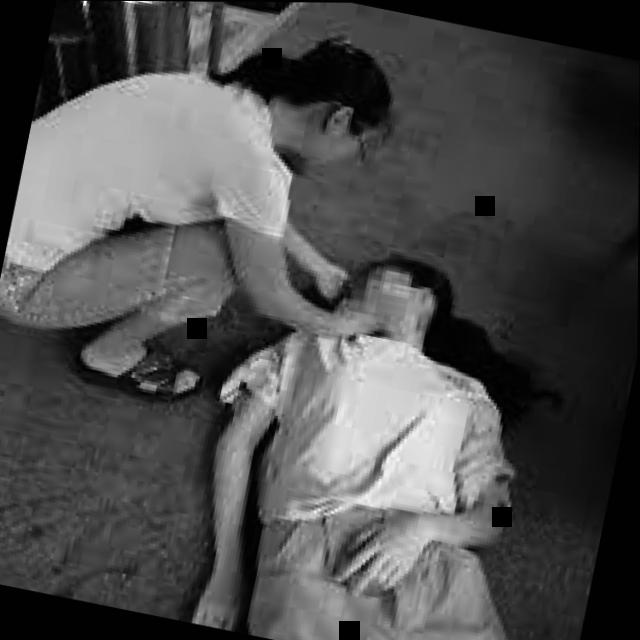Fall-Detected: (129, 190, 639, 640)
